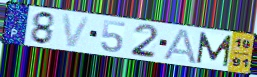2: (131, 23, 161, 60)
5: (100, 19, 127, 54)
8: (30, 9, 57, 46)
A: (161, 28, 198, 66)
M: (195, 31, 233, 68)
V: (61, 13, 93, 49)
